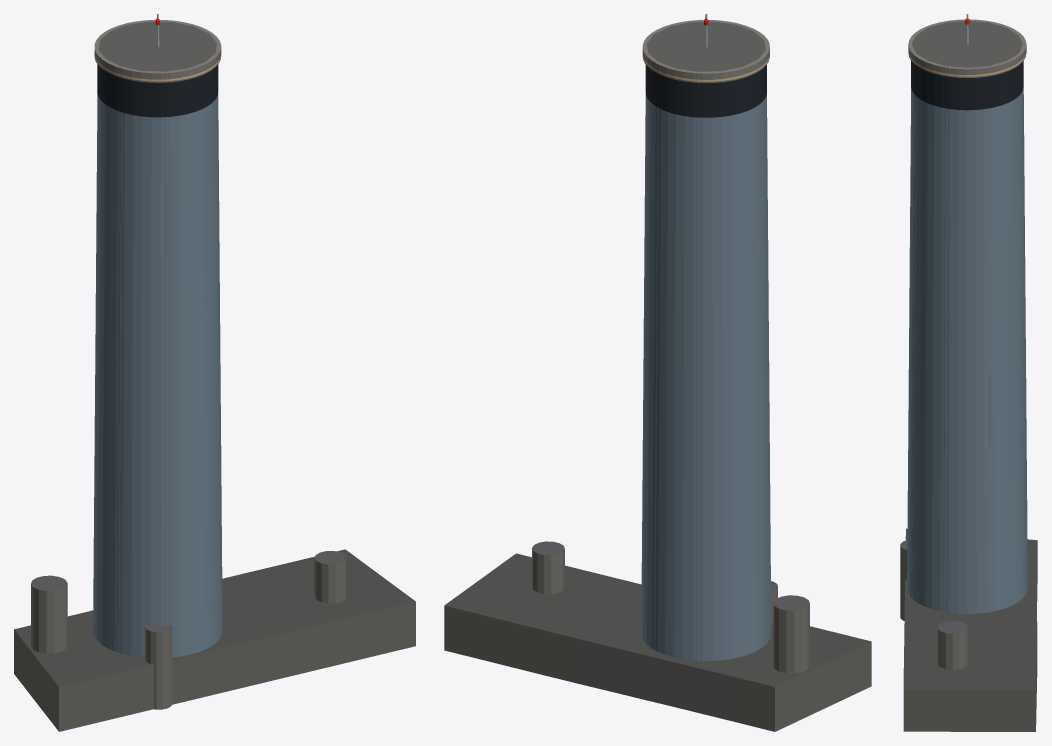
Rendered from westin-peachtree-plaza.glb.
3 renders of one model, left to right at view 1: azimuth 30°, elevation 25°; view 2: azimuth 150°, elevation 25°; view 3: azimuth 270°, elevation 25°, orthographic. The views are drawn at different scales.
Parts seen in each view (by area): view 1: lod0_bld_glass, lod0_bld_wall, lod1_lm_stone, lod1_bld_glass, lod0_lm_stone, lod1_bld_wall, lod0_bld_roof; view 2: lod0_bld_glass, lod1_lm_stone, lod0_bld_wall, lod1_bld_wall, lod1_bld_glass, lod0_lm_stone, lod0_bld_roof; view 3: lod0_bld_glass, lod1_lm_stone, lod0_bld_wall, lod1_bld_glass, lod1_bld_wall, lod0_lm_stone, lod0_bld_roof, lod0_lm_glow.
Part boxes in pixels (x1,y1,x2,y2): lod0_bld_glass: (93,64,222,657); lod0_bld_wall: (14,557,415,731); lod1_lm_stone: (14,14,415,687); lod1_bld_glass: (93,65,209,652); lod0_lm_stone: (94,19,221,82); lod1_bld_wall: (35,656,58,731); lod0_bld_roof: (31,551,346,632); lod0_bld_glass: (641,64,771,660); lod1_lm_stone: (444,14,871,686); lod0_bld_wall: (444,548,821,731); lod1_bld_wall: (621,641,871,716); lod1_bld_glass: (654,65,770,660); lod0_lm_stone: (642,20,769,82); lod0_bld_roof: (532,541,809,610); lod0_bld_glass: (907,61,1027,613); lod1_lm_stone: (903,14,1037,690); lod0_bld_wall: (900,542,1037,731); lod1_bld_glass: (911,65,1023,611); lod1_bld_wall: (935,690,1035,731); lod0_lm_stone: (908,19,1026,78); lod0_bld_roof: (900,540,967,633); lod0_lm_glow: (908,18,1026,76).
Bounding box in the file's own units: 125 × 222 × 44.8.
